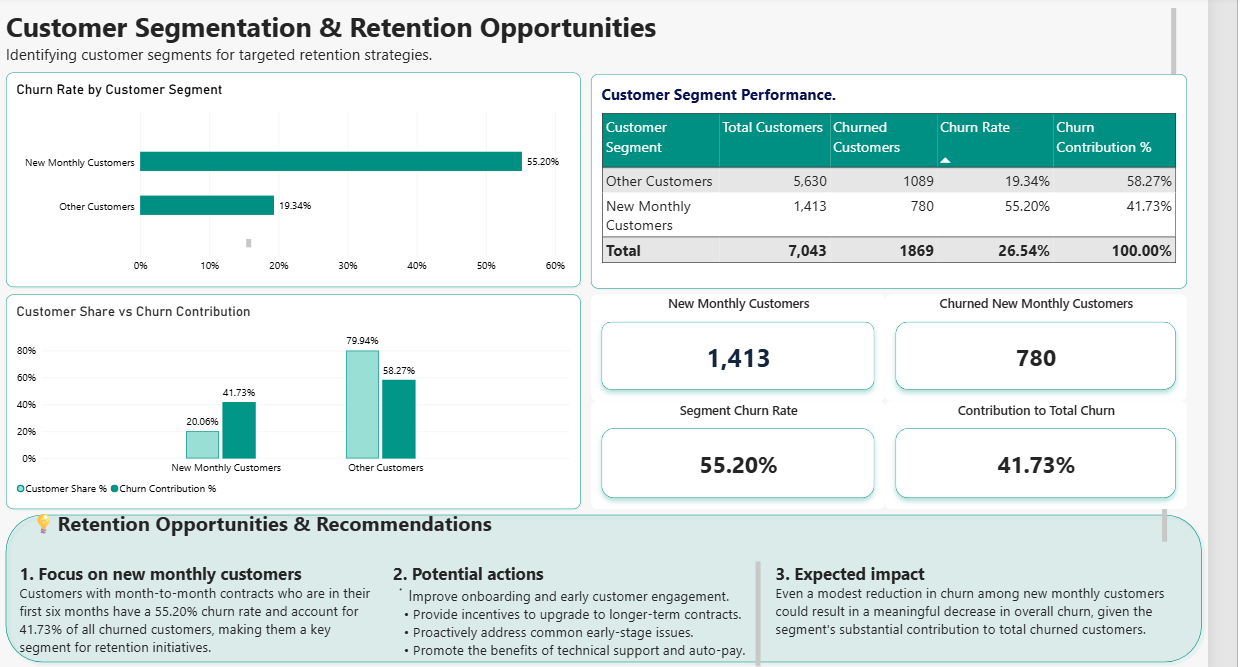

Layout of this report page (visuals, bound fields, positions):
{"tool":"powerbi","page":{"name":"Retention Opportunities","canvas":[1920,1080],"ordinal":2},"visuals":[{"type":"textbox","box":[9.5,38.2,1911.1,169.4],"z":0},{"type":"textbox","box":[9.5,19.1,1861,128.8],"z":1000},{"type":"clusteredBarChart","title":"Churn Rate by Customer Segment","fields":{"Category":["Customers.Customer Segment"],"Y":["Customers.Churn Rate"]},"box":[10.2,122.6,913.8,341.2],"z":2000},{"type":"tableEx","title":"Customer Segment Performance.","fields":{"Values":["Customers.Customer Segment","Customers.Total Customers","Customers.Churned Customers","Customers.Churn Rate","Customers.Churn Contribution %"]},"box":[939.6,124,948.3,341.4],"z":3000},{"type":"clusteredColumnChart","title":"Customer Share vs Churn Contribution","fields":{"Category":["Customers.Customer Segment"],"Y":["Customers.Customer Share %","Customers.Churn Contribution %"]},"box":[10,475,914,341],"z":4000},{"type":"cardVisual","title":"New Monthly Customers","fields":{"Data":["Customers.Total Customers"]},"box":[939.6,475.6,468.3,169.2],"z":5000},{"type":"cardVisual","title":"Churned New Monthly Customers","fields":{"Data":["Customers.Churned Customers"]},"box":[1407.9,475.6,480,169.2],"z":6000},{"type":"cardVisual","title":"Segment Churn Rate","fields":{"Data":["Customers.Churn Rate"]},"box":[939.6,644.9,468.3,172.2],"z":7000},{"type":"cardVisual","title":"Contribution to Total Churn","fields":{"Data":["Customers.Churn Contribution %"]},"box":[1407.9,644.9,480,172.2],"z":8000},{"type":"shape","box":[0,816,1920.7,252.9],"z":9000},{"type":"textbox","box":[100.7,322.4,299.1,77.3],"z":10000},{"type":"textbox","box":[90.5,322.4,309.3,77.3],"z":11000},{"type":"textbox","box":[100.7,341.4,299.1,58.4],"z":12000},{"type":"textbox","box":[100.7,386.6,299.1,13.1],"z":13000},{"type":"textbox","box":[47.7,816,1808.5,64.4],"z":14000},{"type":"textbox","box":[31,899.5,577.4,169.4],"z":15000},{"type":"textbox","box":[625.1,899.5,584.5,169.4],"z":16000},{"type":"textbox","box":[1233.5,899.5,637,150.3],"z":17000}]}

Visuals, with their boxes on the page's 1920x1080 design canvas (x1, y1, x2, y2). These are canvas units, not pixel positions in the 1240x667 screenshot, which may show the page scaled, cropped or inside an application window:
textbox: detection(10, 38, 1921, 208)
textbox: detection(10, 19, 1870, 148)
"Churn Rate by Customer Segment" clusteredBarChart: detection(10, 123, 924, 464)
"Customer Segment Performance." tableEx: detection(940, 124, 1888, 465)
"Customer Share vs Churn Contribution" clusteredColumnChart: detection(10, 475, 924, 816)
"New Monthly Customers" cardVisual: detection(940, 476, 1408, 645)
"Churned New Monthly Customers" cardVisual: detection(1408, 476, 1888, 645)
"Segment Churn Rate" cardVisual: detection(940, 645, 1408, 817)
"Contribution to Total Churn" cardVisual: detection(1408, 645, 1888, 817)
shape: detection(0, 816, 1921, 1069)
textbox: detection(101, 322, 400, 400)
textbox: detection(90, 322, 400, 400)
textbox: detection(101, 341, 400, 400)
textbox: detection(101, 387, 400, 400)
textbox: detection(48, 816, 1856, 880)
textbox: detection(31, 900, 608, 1069)
textbox: detection(625, 900, 1210, 1069)
textbox: detection(1234, 900, 1870, 1050)
